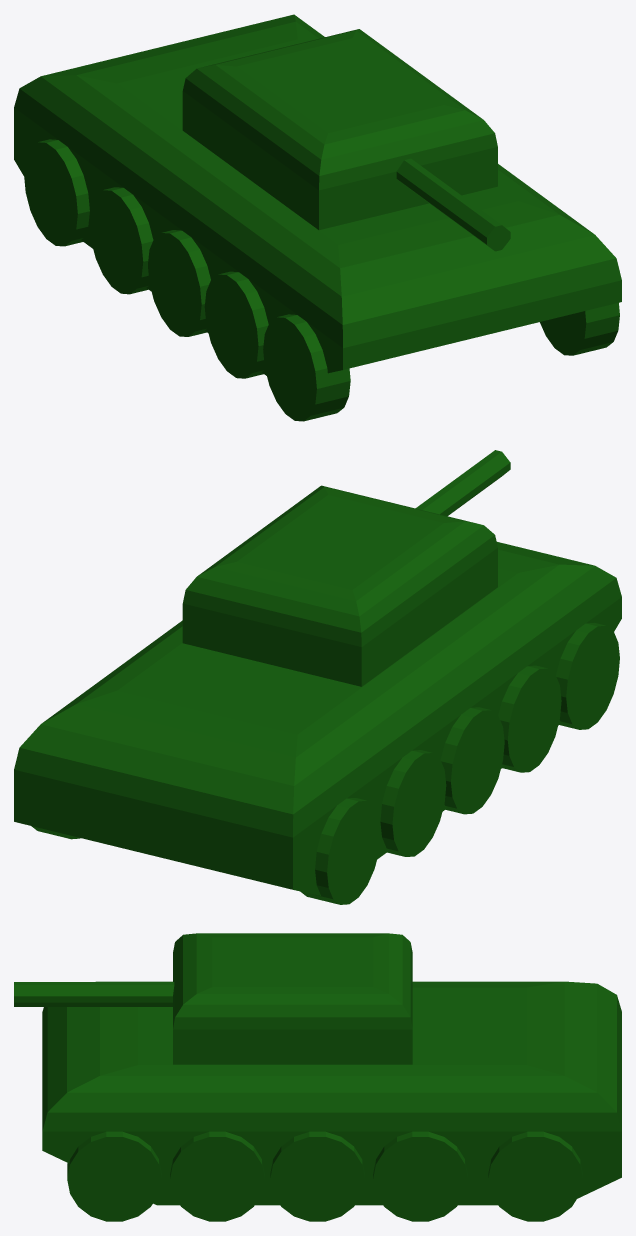
Rendered from Tanque1.fbx.
The picture shows the model from 3 angles, top to bottom: view 1: azimuth 30°, elevation 25°; view 2: azimuth 150°, elevation 25°; view 3: azimuth 270°, elevation 25°; orthographic projection. The views are drawn at different scales.
Parts seen in each view (by area): view 1: Cube; view 2: Cube; view 3: Cube.
Boxes of the visible parts, x1,y1,x2,y2 form: Cube: (14,14,621,421); Cube: (14,450,621,904); Cube: (14,933,621,1221).
Bounding box in the file's own units: 292 × 203 × 576.
